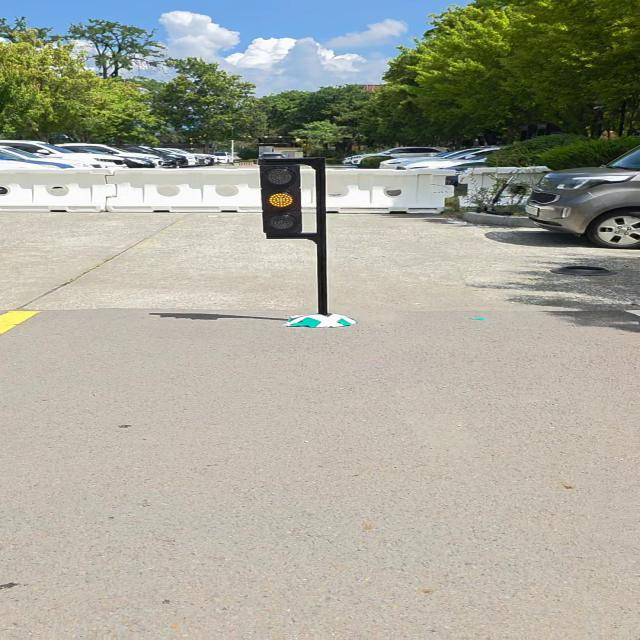yellow: (259, 163, 303, 236)
